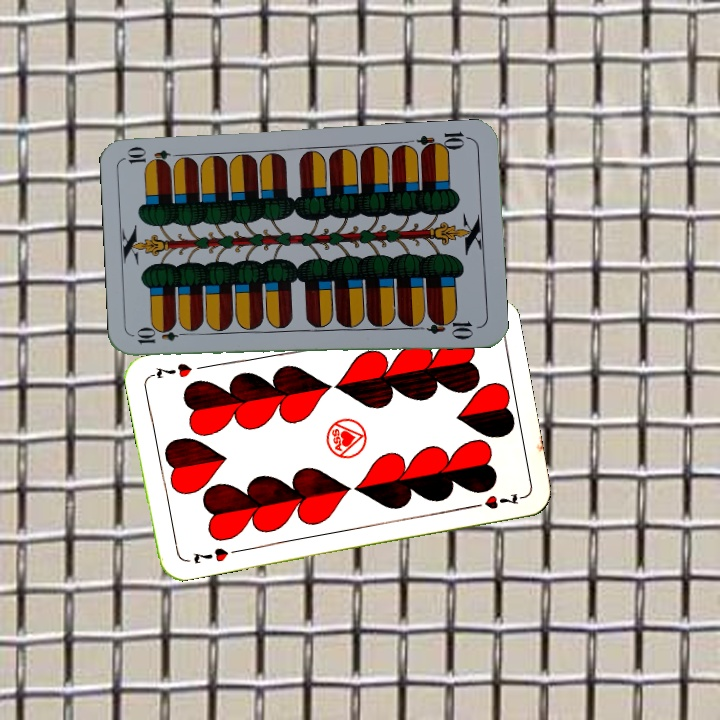E10: (414, 127, 473, 156), (133, 326, 192, 346)
H7: (189, 543, 231, 567)
